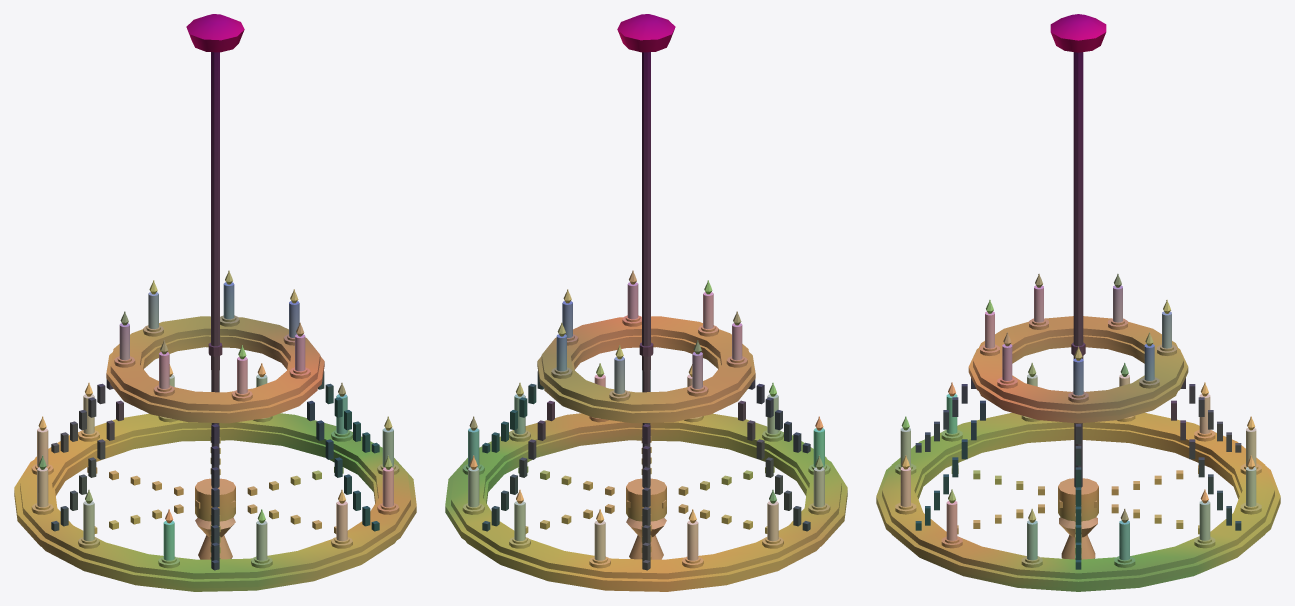
File: chandelier_gilt.glb
The picture shows the model from 3 angles, left to right: view 1: azimuth 30°, elevation 25°; view 2: azimuth 150°, elevation 25°; view 3: azimuth 270°, elevation 25°; orthographic projection.
Visible parts, largest first — view 1: chand_ring, chand_chain, chand_candles, chand_boss, chand_drop; view 2: chand_ring, chand_chain, chand_candles, chand_boss, chand_drop; view 3: chand_ring, chand_chain, chand_candles, chand_boss, chand_drop.
Part boxes in pixels (x1=…): chand_ring: x1=14, y1=315, x2=416, y2=591; chand_chain: x1=51, y1=52, x2=379, y2=570; chand_candles: x1=37, y1=282, x2=393, y2=560; chand_boss: x1=186, y1=14, x2=244, y2=52; chand_drop: x1=195, y1=517, x2=235, y2=559; chand_ring: x1=445, y1=315, x2=847, y2=591; chand_chain: x1=482, y1=52, x2=810, y2=570; chand_candles: x1=468, y1=282, x2=824, y2=560; chand_boss: x1=617, y1=14, x2=675, y2=52; chand_drop: x1=626, y1=517, x2=666, y2=559; chand_ring: x1=876, y1=316, x2=1280, y2=591; chand_chain: x1=915, y1=52, x2=1241, y2=569; chand_candles: x1=900, y1=285, x2=1256, y2=560; chand_boss: x1=1050, y1=14, x2=1106, y2=52; chand_drop: x1=1059, y1=517, x2=1097, y2=559.
Bounding box in the file's own units: 2.76 × 4.2 × 2.76.
